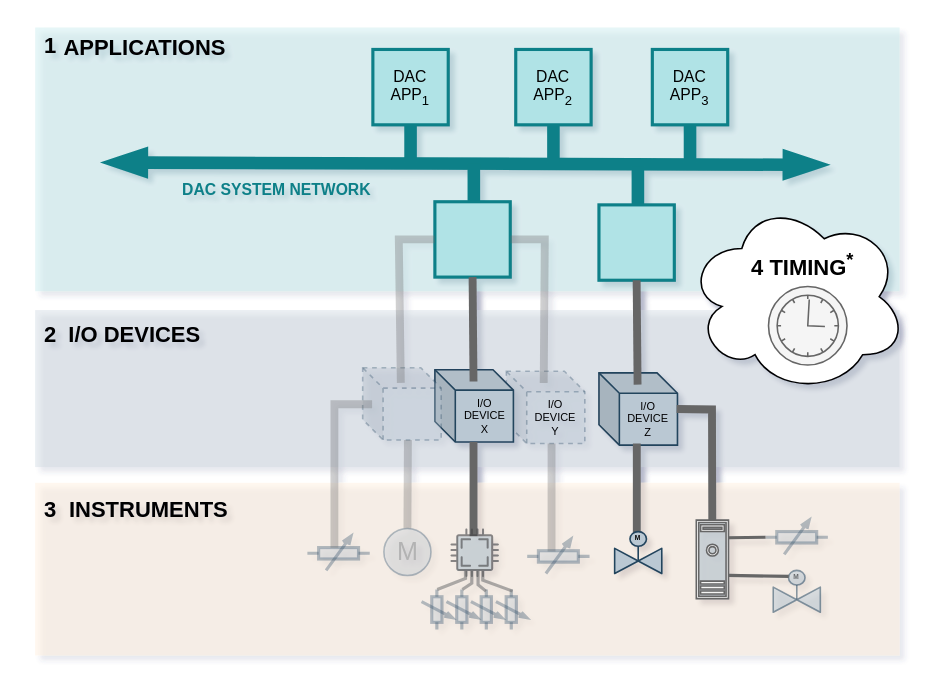
Image size: 944x691. Some labels were removed from this diagram. The centre of each missing label's shape, as x and y in pixels:
DAC APP 4 (IOC): (x=472, y=238)
DAC APP 5 (IOC): (x=636, y=242)
I/O DEVICE W: (x=401, y=403)
